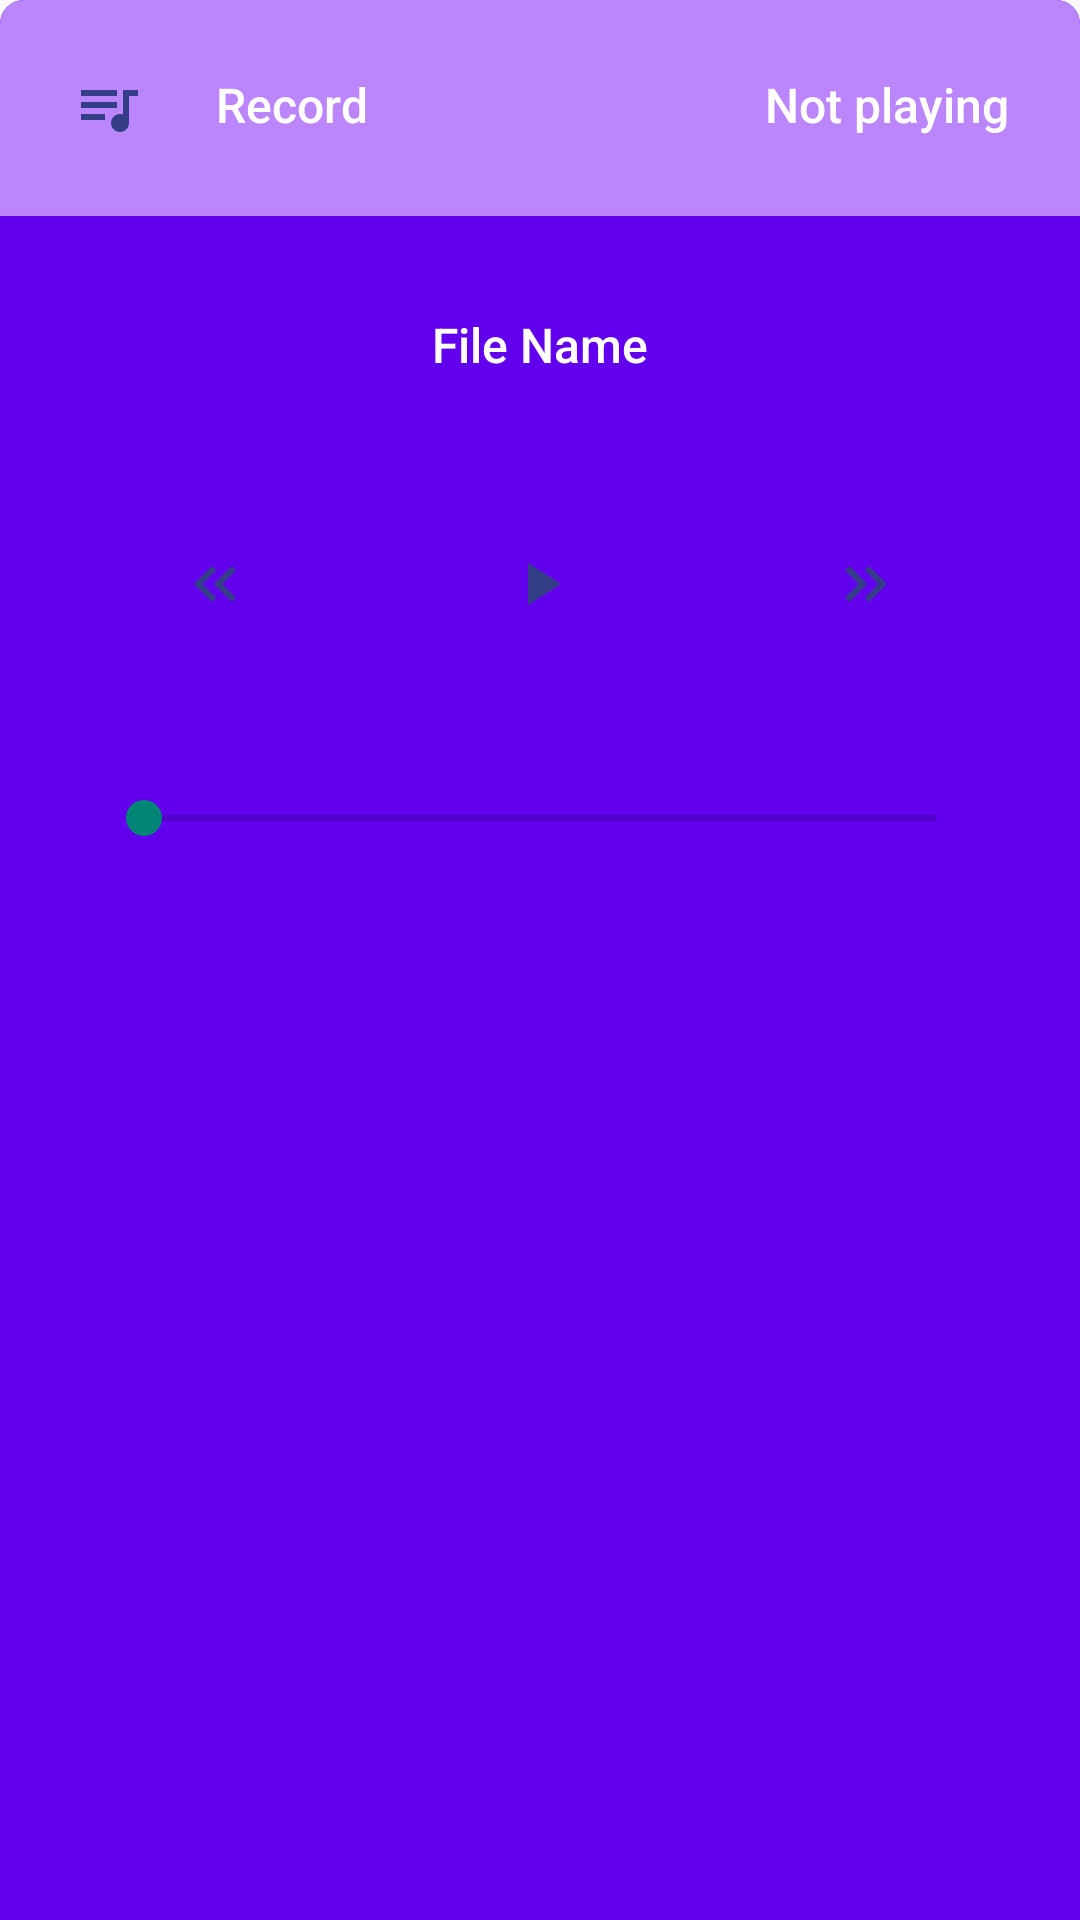

Icons on this 1080 × 1920 Android screen, each with its box as (x1, y1, x2, y2):
player: (528, 563, 561, 605)
